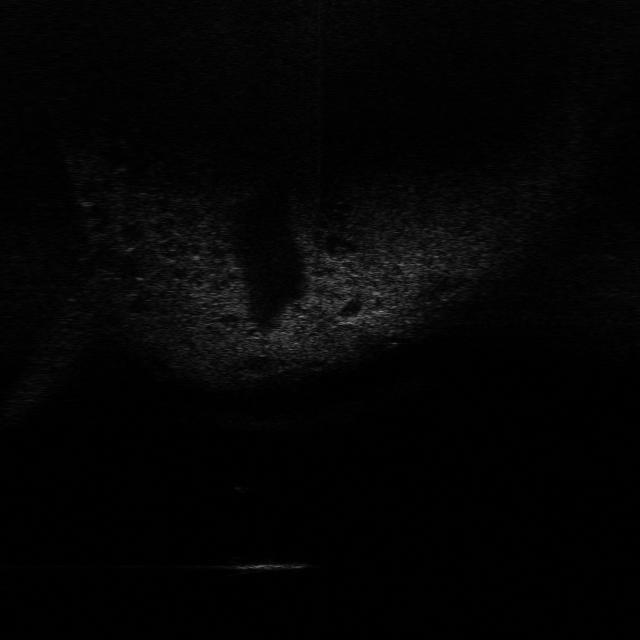cube: (224, 550, 314, 573)
